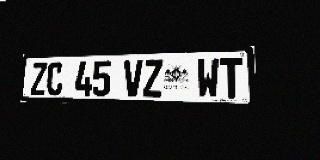4: (75, 61, 93, 96)
5: (92, 61, 111, 96)
C: (46, 62, 63, 96)
T: (220, 57, 243, 99)
V: (123, 60, 143, 97)
W: (197, 58, 219, 98)
Z: (143, 59, 163, 97), (30, 62, 47, 95)
